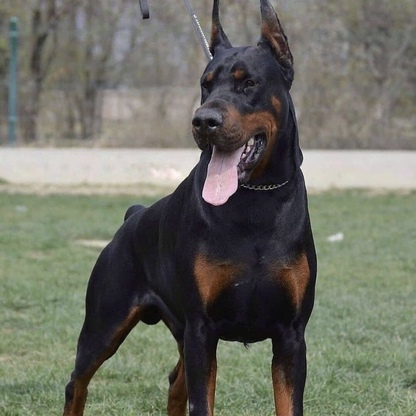doberman: (63, 4, 325, 414)
